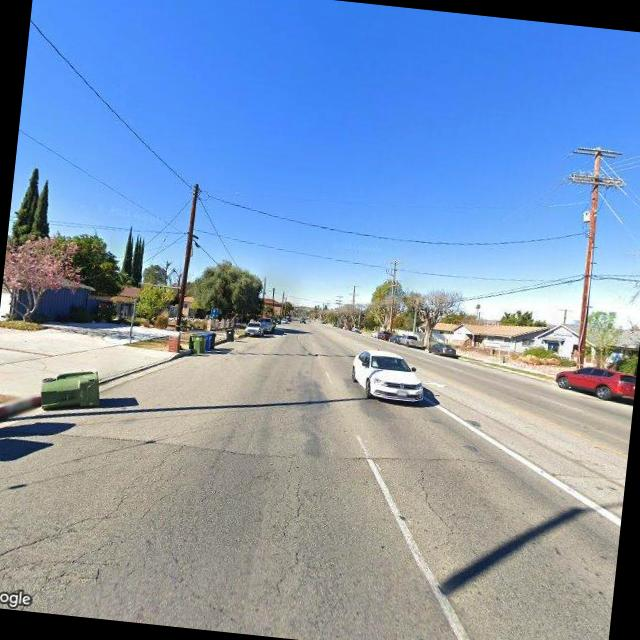crack: (0, 419, 198, 612)
pothole: (267, 471, 314, 598), (406, 462, 458, 534)
